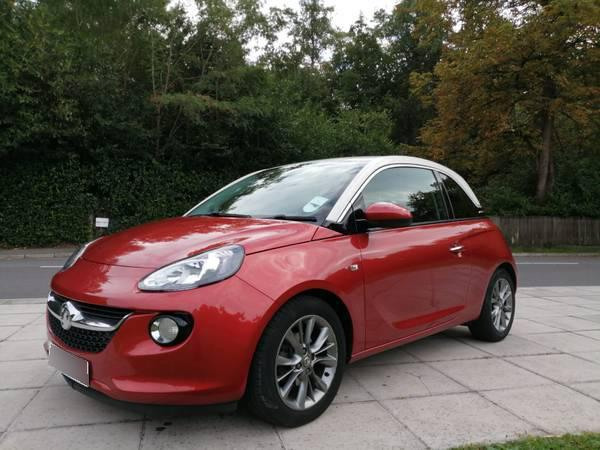Front_Bumper: (40, 257, 275, 407)
Front_Fender: (237, 235, 366, 362)
Front_Left_Door: (358, 221, 471, 352), (434, 164, 519, 319)
Front_Left_Window: (339, 162, 454, 233)
Front_Windshield: (188, 157, 382, 220)
Grille: (41, 288, 131, 353)
Hood: (81, 213, 346, 268)
Left_Taillight: (133, 244, 242, 293)
Roof: (317, 152, 486, 229)
Wheel: (253, 298, 348, 432), (483, 272, 518, 341)
